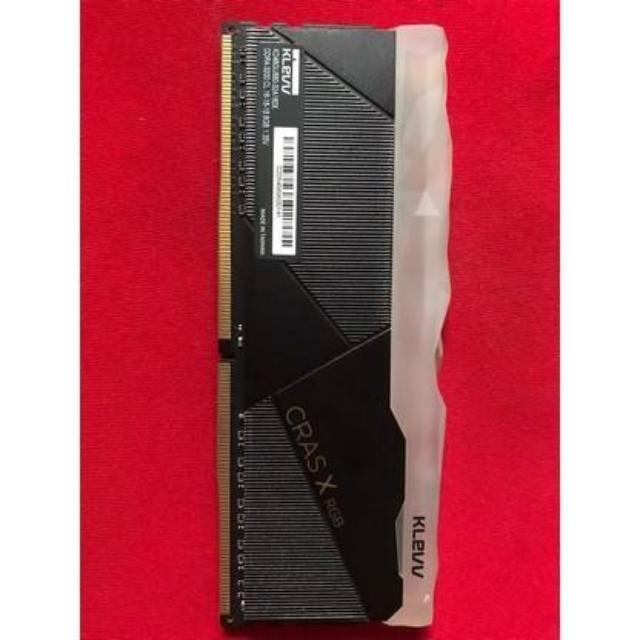RAM: (172, 0, 504, 640)
